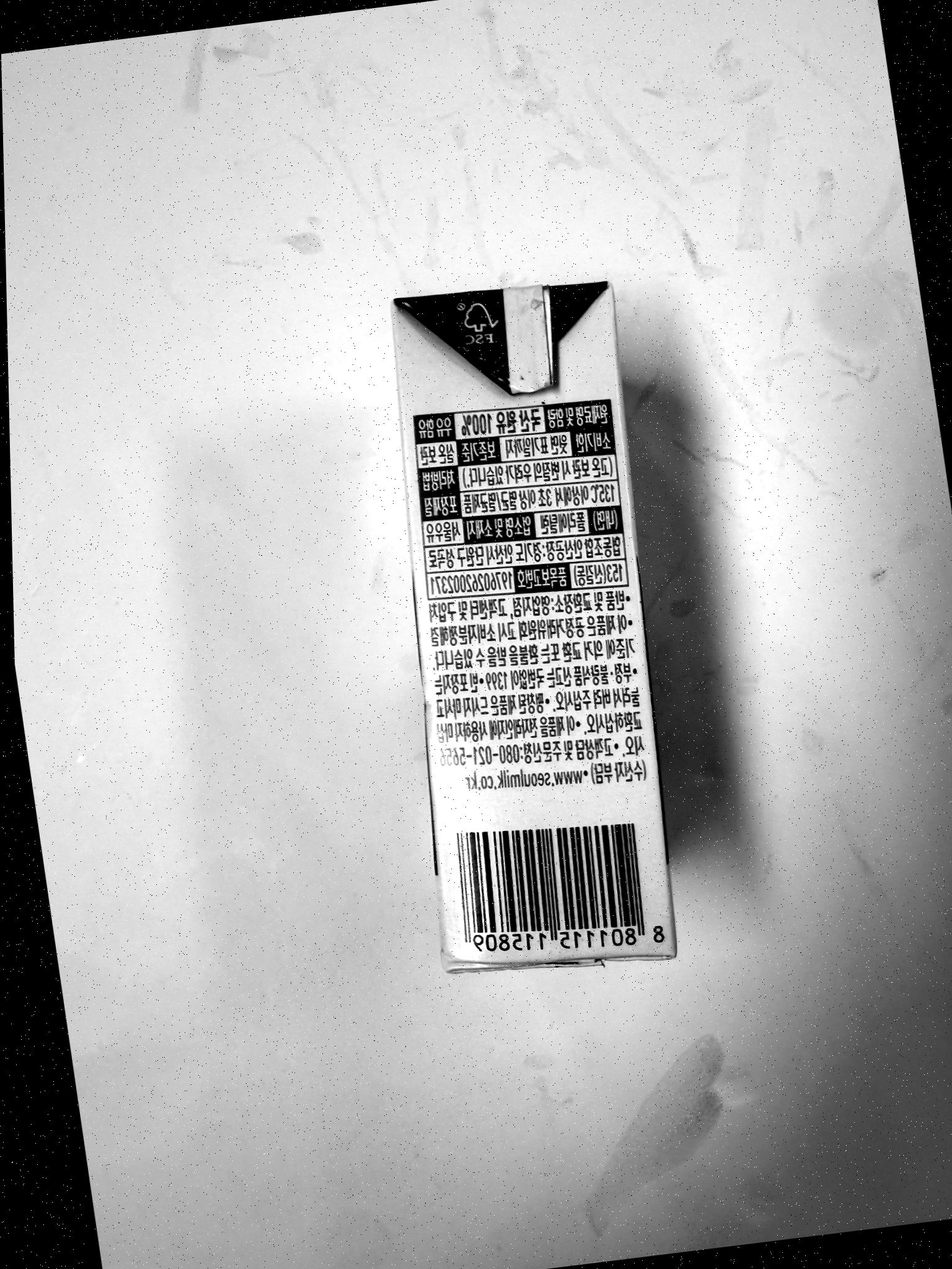milk_blue: (395, 286, 674, 974)
